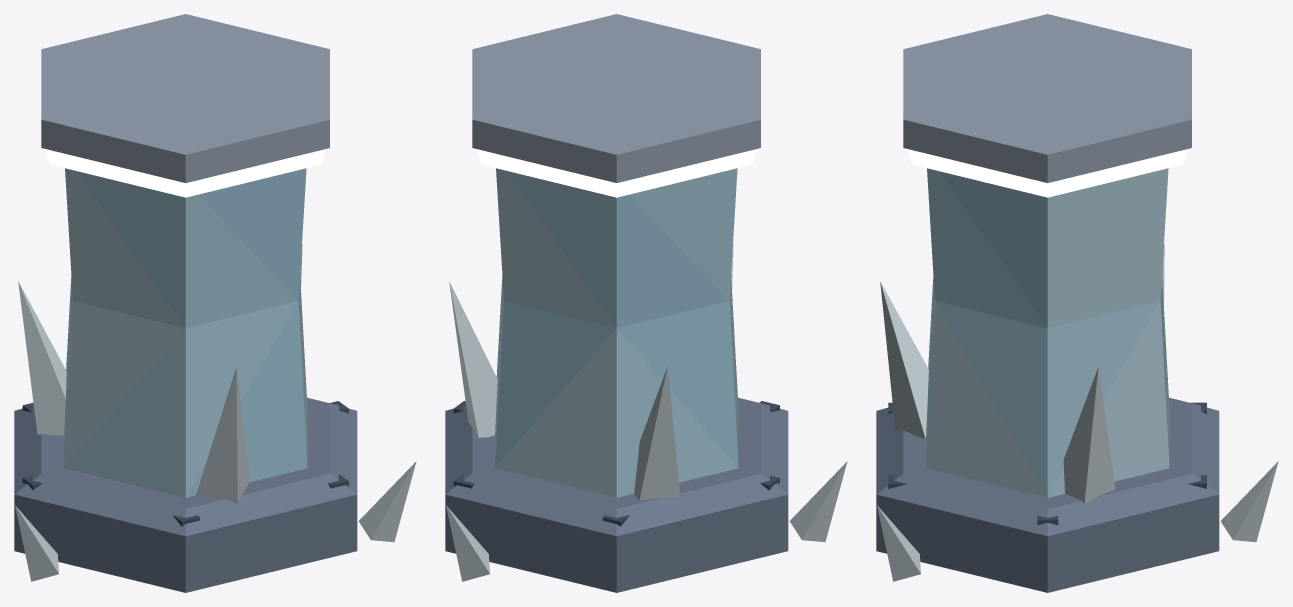
Rendered from kit-arctic-pedestal.glb.
3 views of the same model, side by side, from view 1: azimuth 30°, elevation 25°; view 2: azimuth 150°, elevation 25°; view 3: azimuth 270°, elevation 25° (orthographic).
Parts seen in each view (by area): view 1: kit-arctic-pedestal; view 2: kit-arctic-pedestal; view 3: kit-arctic-pedestal.
Part boxes in pixels (left/top/right/bottom): kit-arctic-pedestal: left=14, top=14, right=416, bottom=592; kit-arctic-pedestal: left=445, top=14, right=847, bottom=592; kit-arctic-pedestal: left=876, top=14, right=1278, bottom=592.
Bounding box in the file's own units: 0.8254 × 0.9179 × 0.7723.
